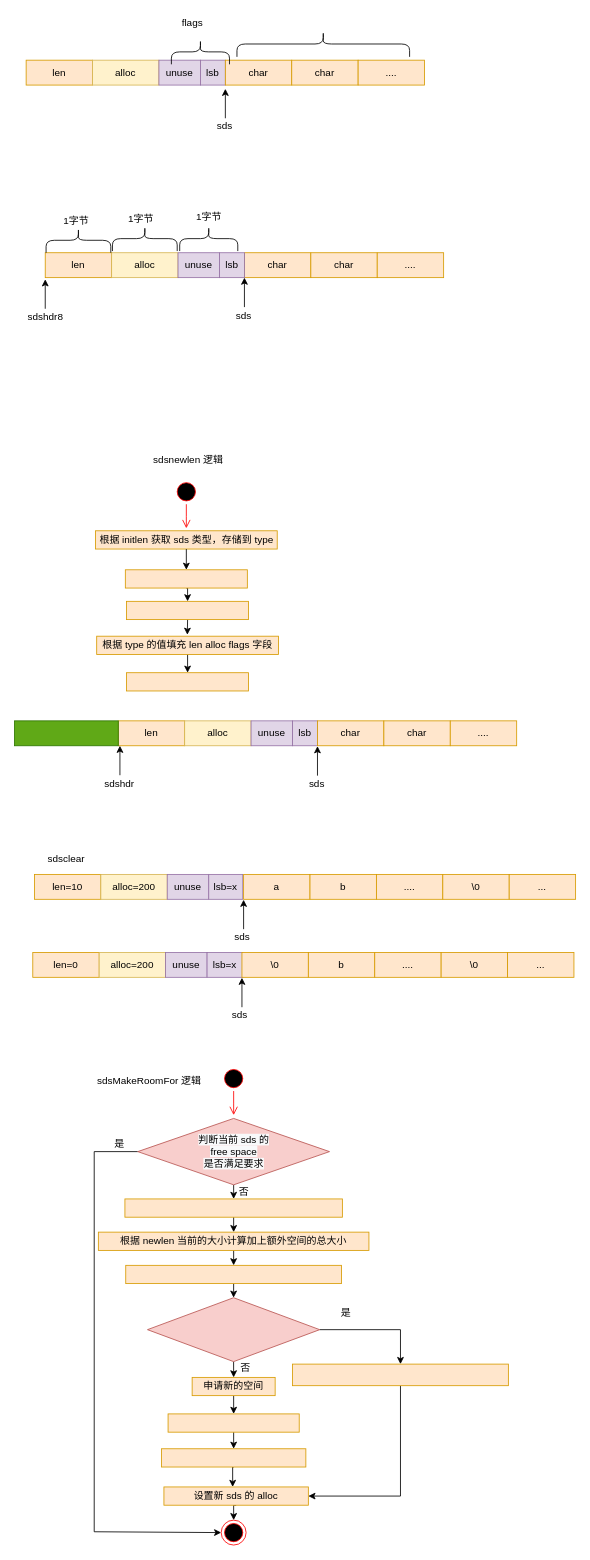
This 590x1560 diagram has some shape labels left out. The shapes that lost their labels are listed below. From the top down, each one's box as (x1, y1, x2, y2) in pixels, then its label:
(236, 30, 410, 57): buf
(124, 569, 247, 588): 保证 type 至少是 sds8
(126, 601, 249, 620): 根据 initlen 申请空间
(126, 672, 249, 691): 用 init 填充申请的空间
(14, 720, 118, 746): 内存头，记录内存大小
(124, 1198, 342, 1217): 计算新的 sds 对象需要的总空间 newlen
(125, 1265, 342, 1284): 判断 sds 的新类型并保证不小于 sdshdr8
(147, 1297, 320, 1362): 判断新旧 sds 的类型是否相同
(292, 1363, 508, 1386): 申请新的空间，并复制原 sds 的内容到新空间
(167, 1413, 299, 1432): 复制原 sds 的内容到新空间
(161, 1448, 306, 1467): 设置新 sds 对象的类型和长度
